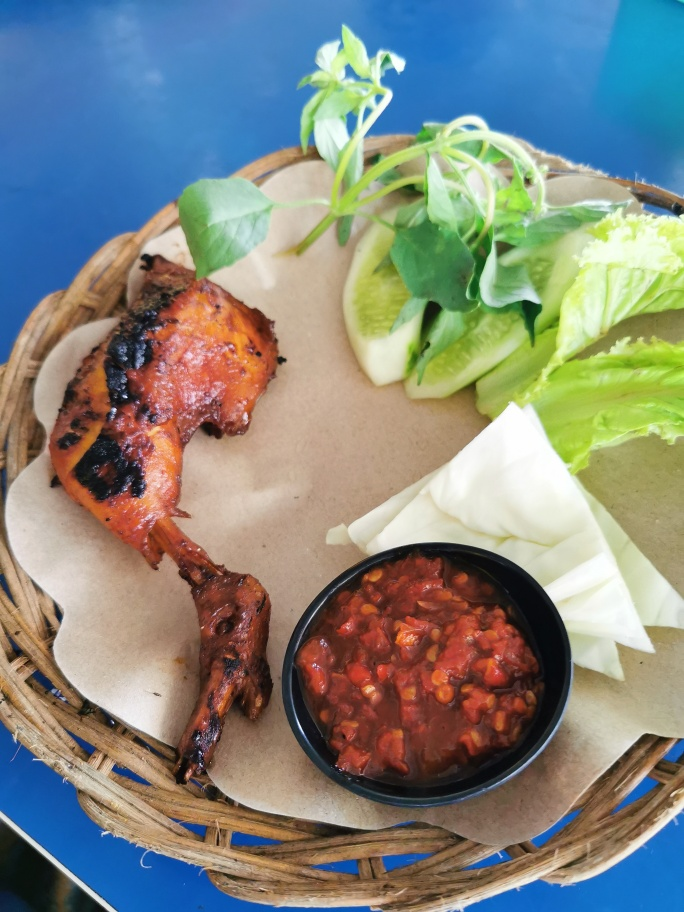ayam bakar: (48, 243, 288, 794)
